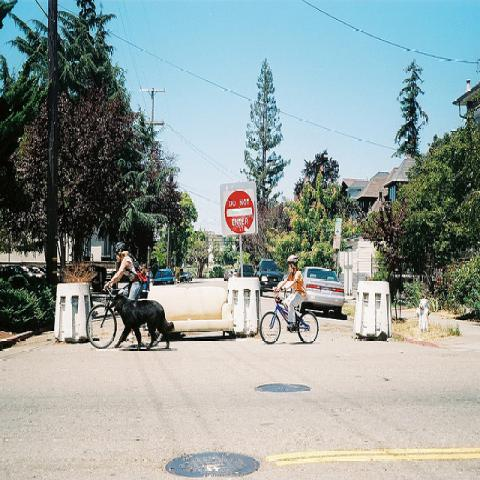car: (300, 266, 345, 317), (259, 259, 284, 296), (154, 267, 176, 286), (20, 266, 42, 279), (236, 265, 255, 276), (179, 270, 189, 283)
truck: (252, 260, 284, 298)
